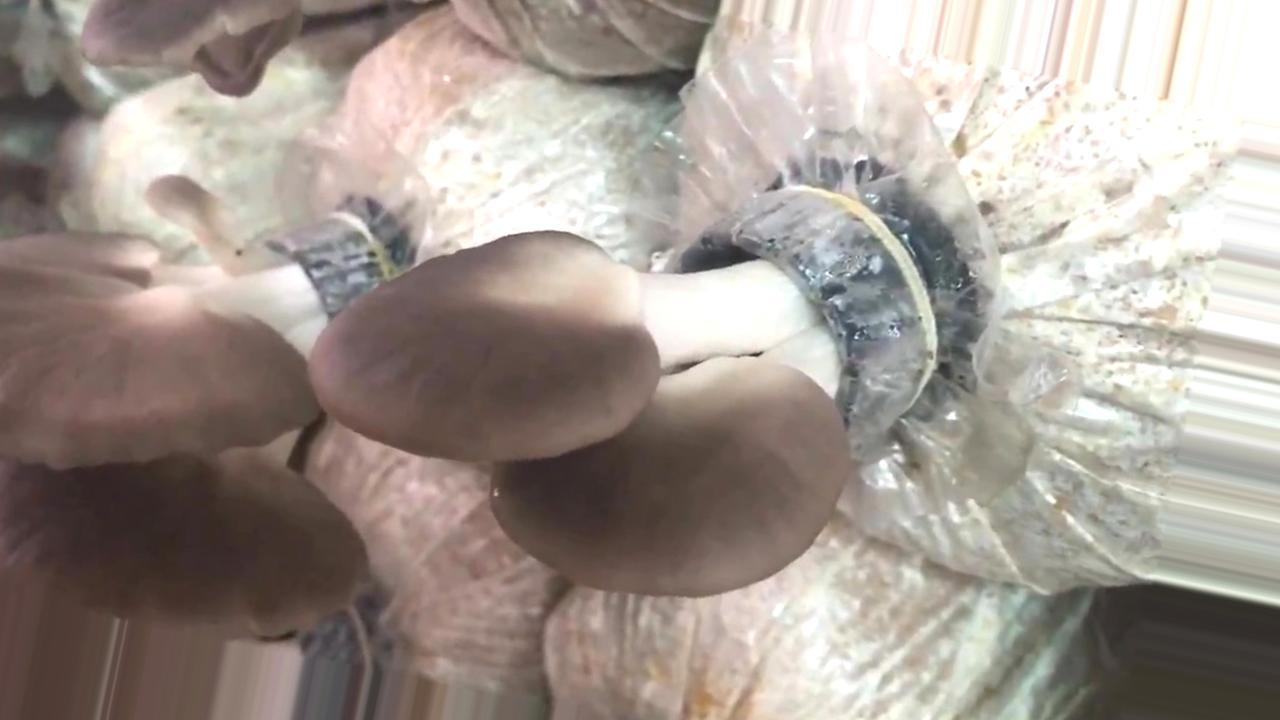nam: (310, 182, 938, 591), (1, 173, 400, 716)
